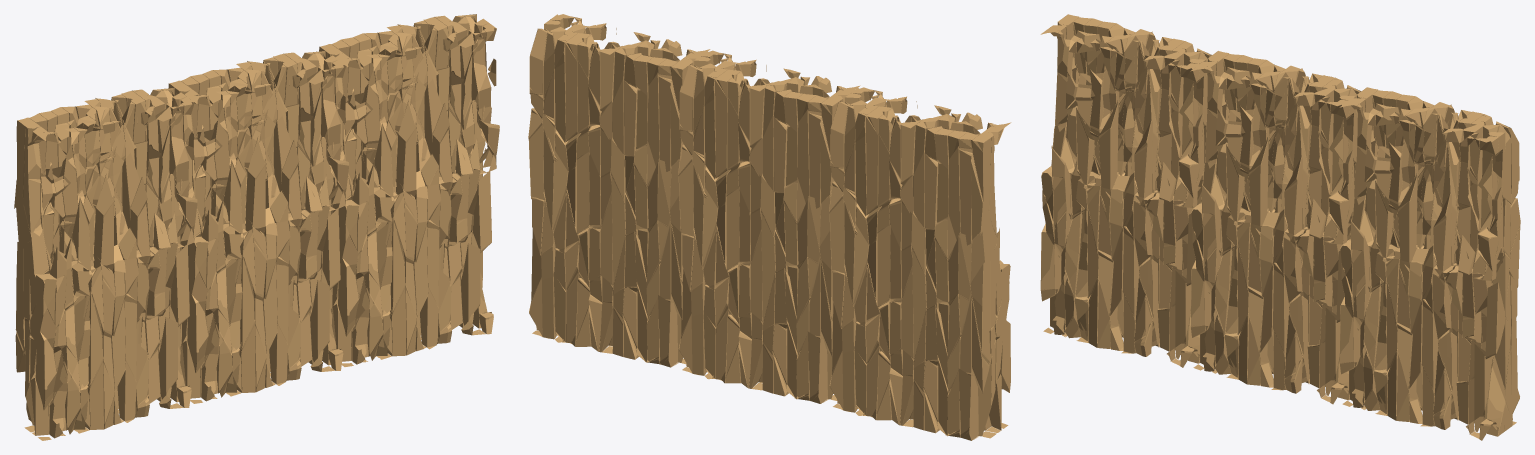
File: uploads_files_3499005_wallabstarct.fbx
3 views of the same model, side by side, from view 1: azimuth 30°, elevation 25°; view 2: azimuth 150°, elevation 25°; view 3: azimuth 330°, elevation 25° (orthographic).
Parts seen in each view (by area): view 1: Cube.004, Cube, Cube.005; view 2: Cube.004, Cube, Cube.005; view 3: Cube.005, Cube.004, Cube.
Part boxes in pixels (x1,y1,x2,y2): Cube.004: (14,88,197,440); Cube: (168,51,349,403); Cube.005: (319,14,499,366); Cube.004: (829,87,1011,440); Cube: (678,50,860,403); Cube.005: (528,14,710,367); Cube.005: (1339,87,1520,440); Cube.004: (1040,14,1211,367); Cube: (1190,51,1361,404).
Size of the model in its own units: 865 by 550 by 110.
